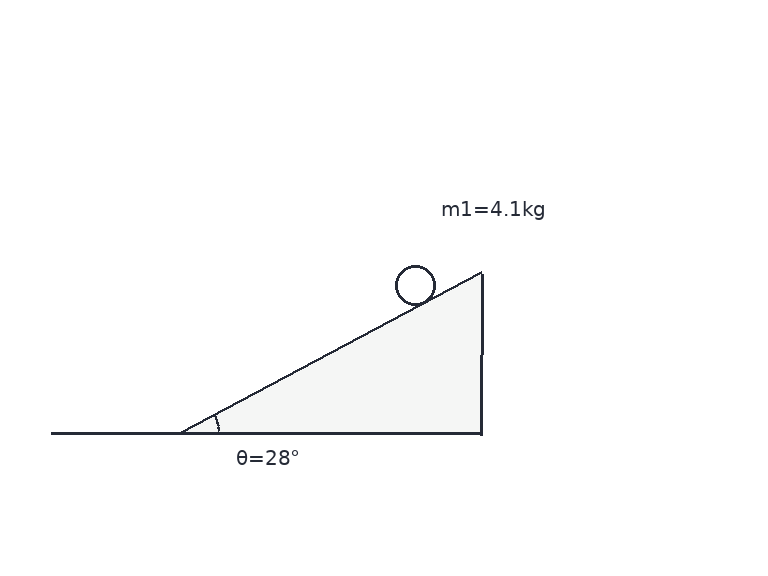ball: (393, 263, 437, 307)
ramp: (177, 270, 483, 435)
